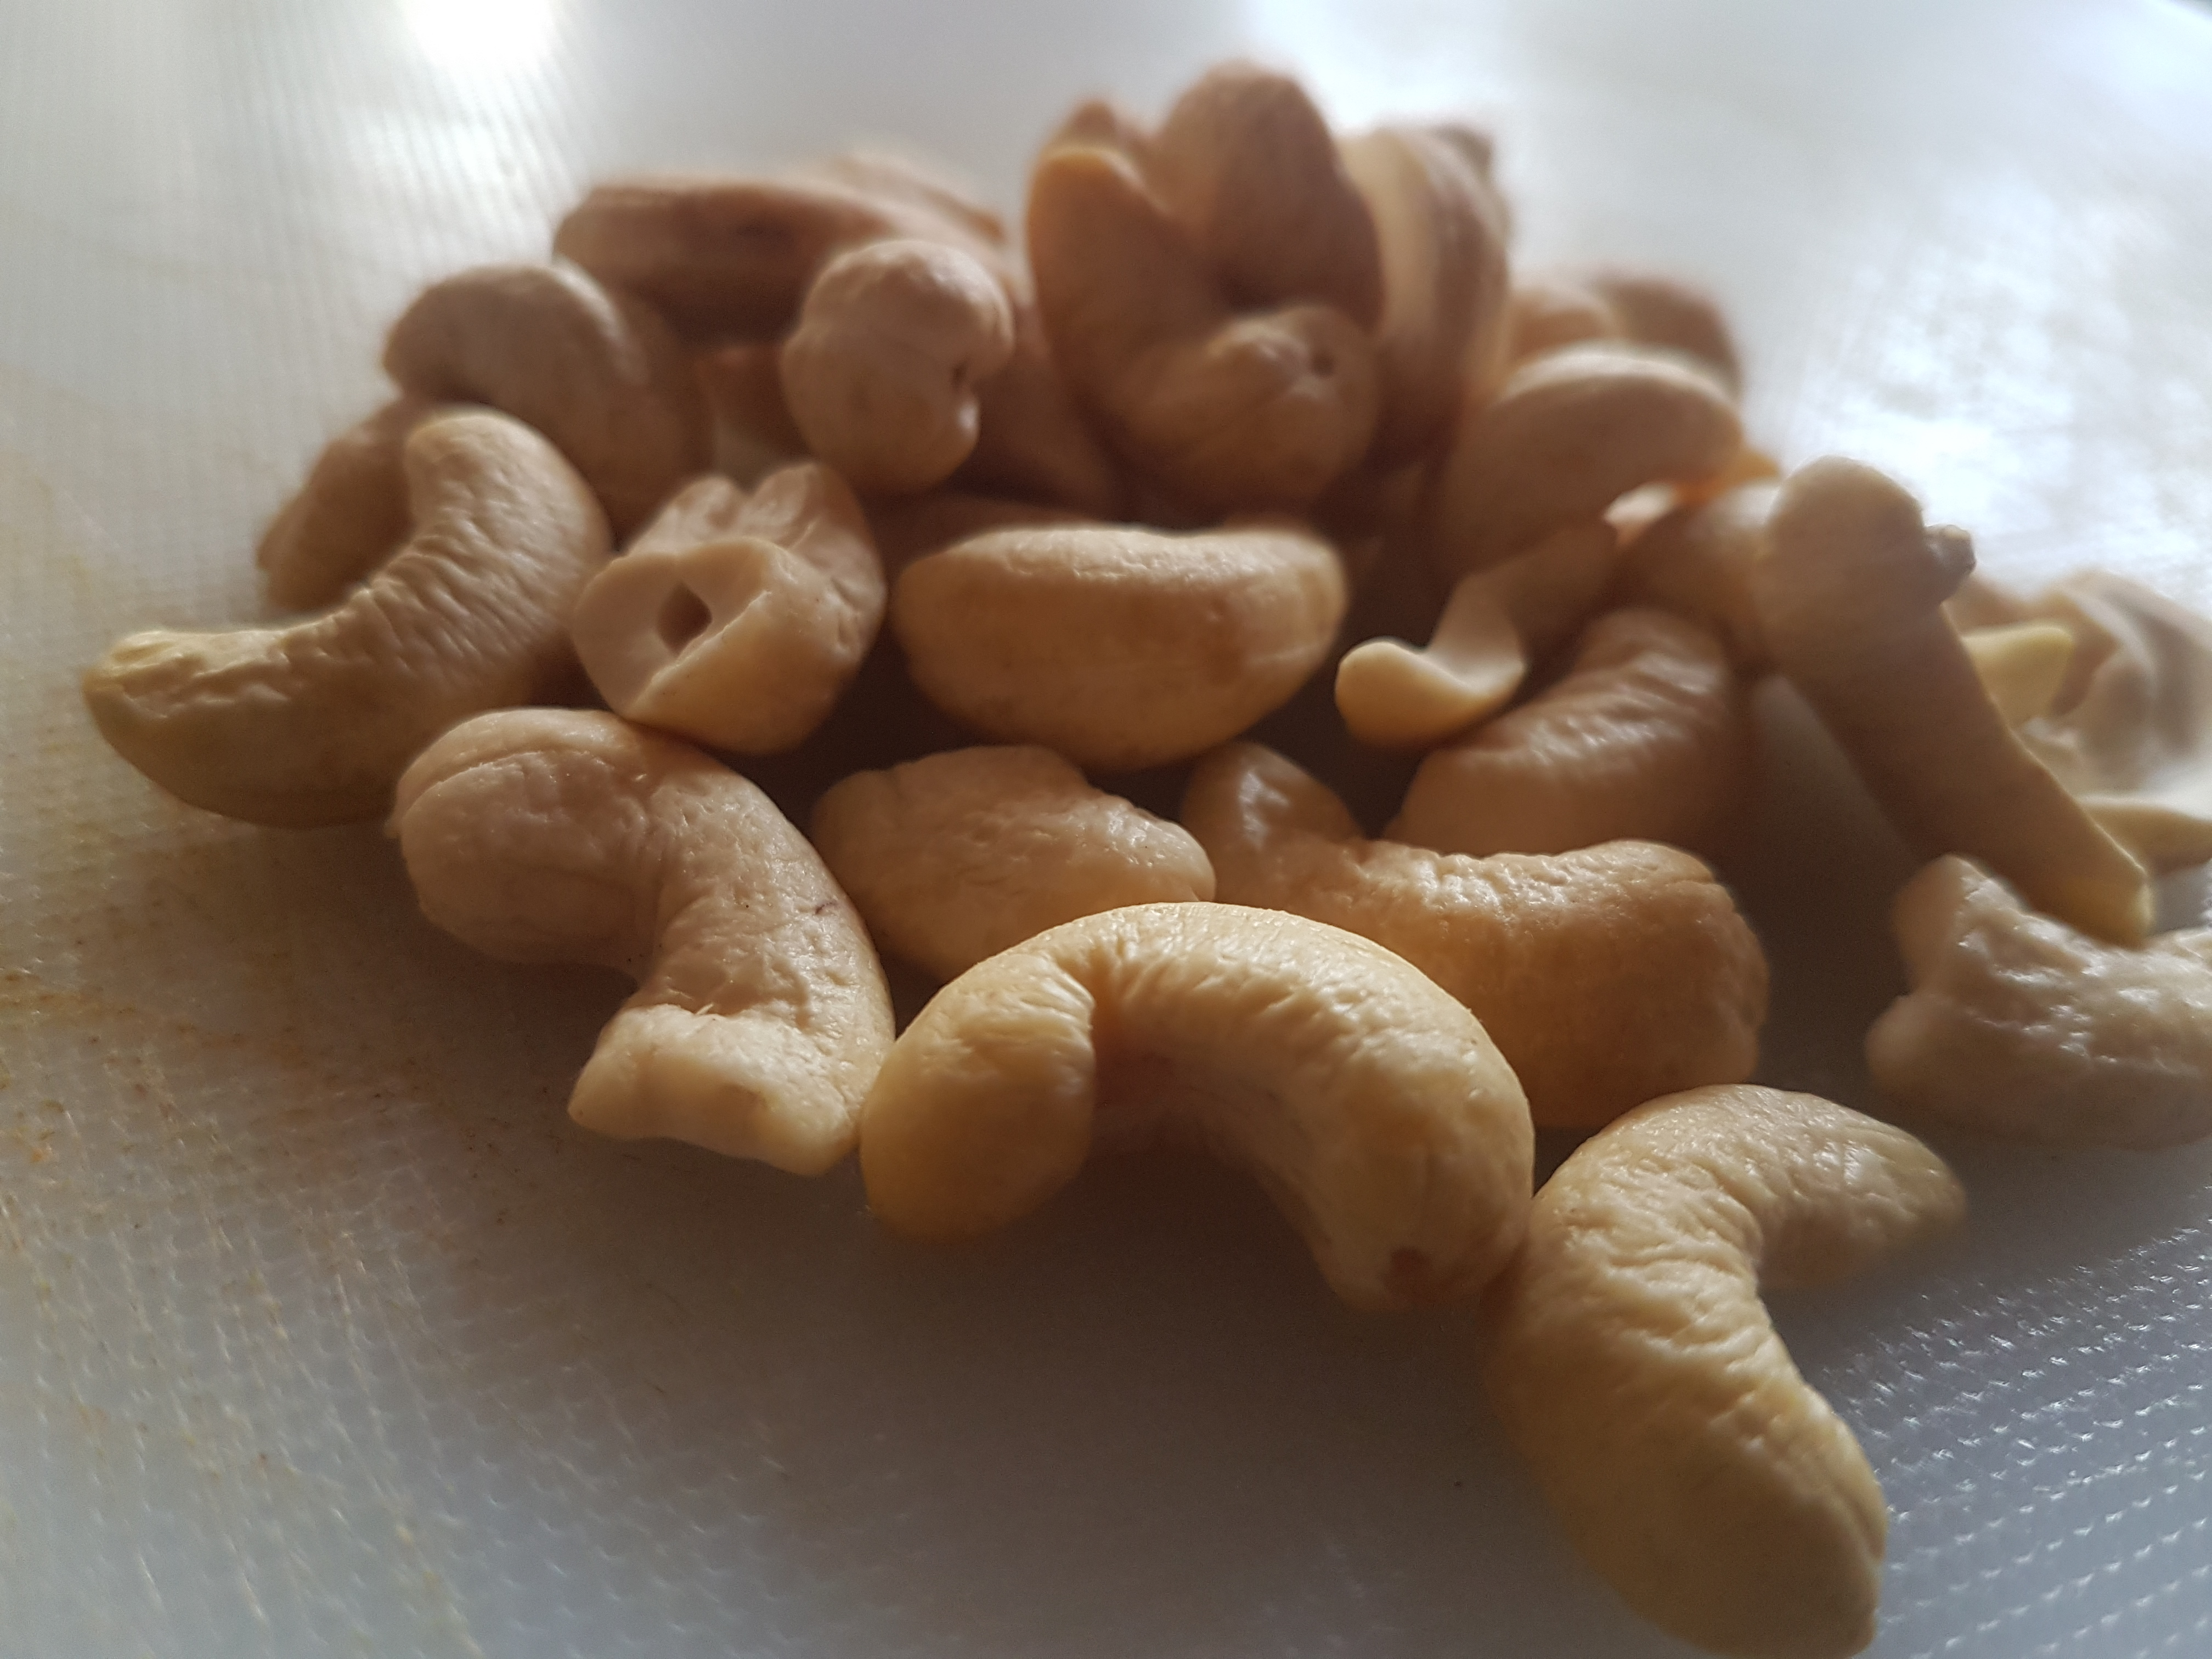Cashew: (148, 66, 2212, 1650)
